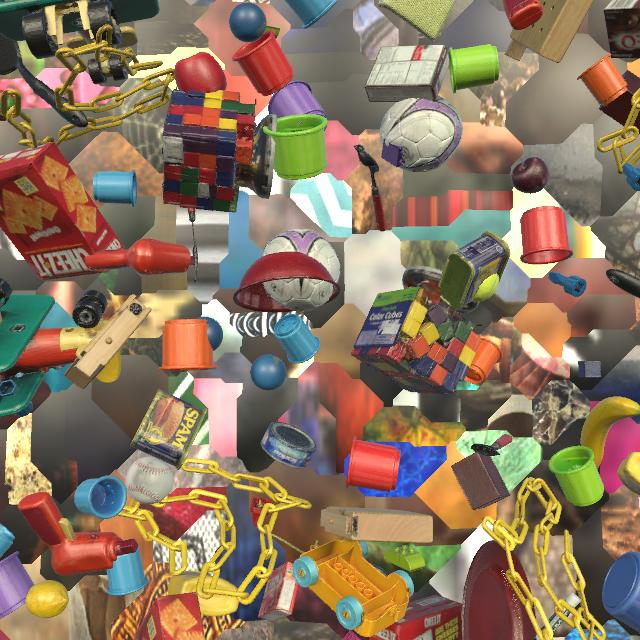ycb_003_cracker_box: (0, 142, 126, 280), (369, 595, 462, 640), (134, 592, 206, 640)
ycb_006_mustard_bottle: (168, 570, 239, 617), (617, 452, 640, 497), (0, 0, 10, 2)
ycb_007_tuna_fish_can: (260, 422, 317, 469), (371, 564, 388, 577)
ycb_008_pudding_box: (365, 45, 449, 102), (603, 0, 640, 58)
ycb_009_gelatin_box: (258, 562, 299, 622)
ycb_010_potted_meat_can: (130, 389, 207, 470), (438, 231, 510, 309)
ycb_011_banana: (581, 396, 640, 469)
ycb_012_strawberry: (0, 90, 15, 121)
ycb_013_apple: (174, 51, 227, 94)
ycb_014_lemon: (26, 580, 69, 618)
ycb_018_plum: (511, 157, 549, 194)
